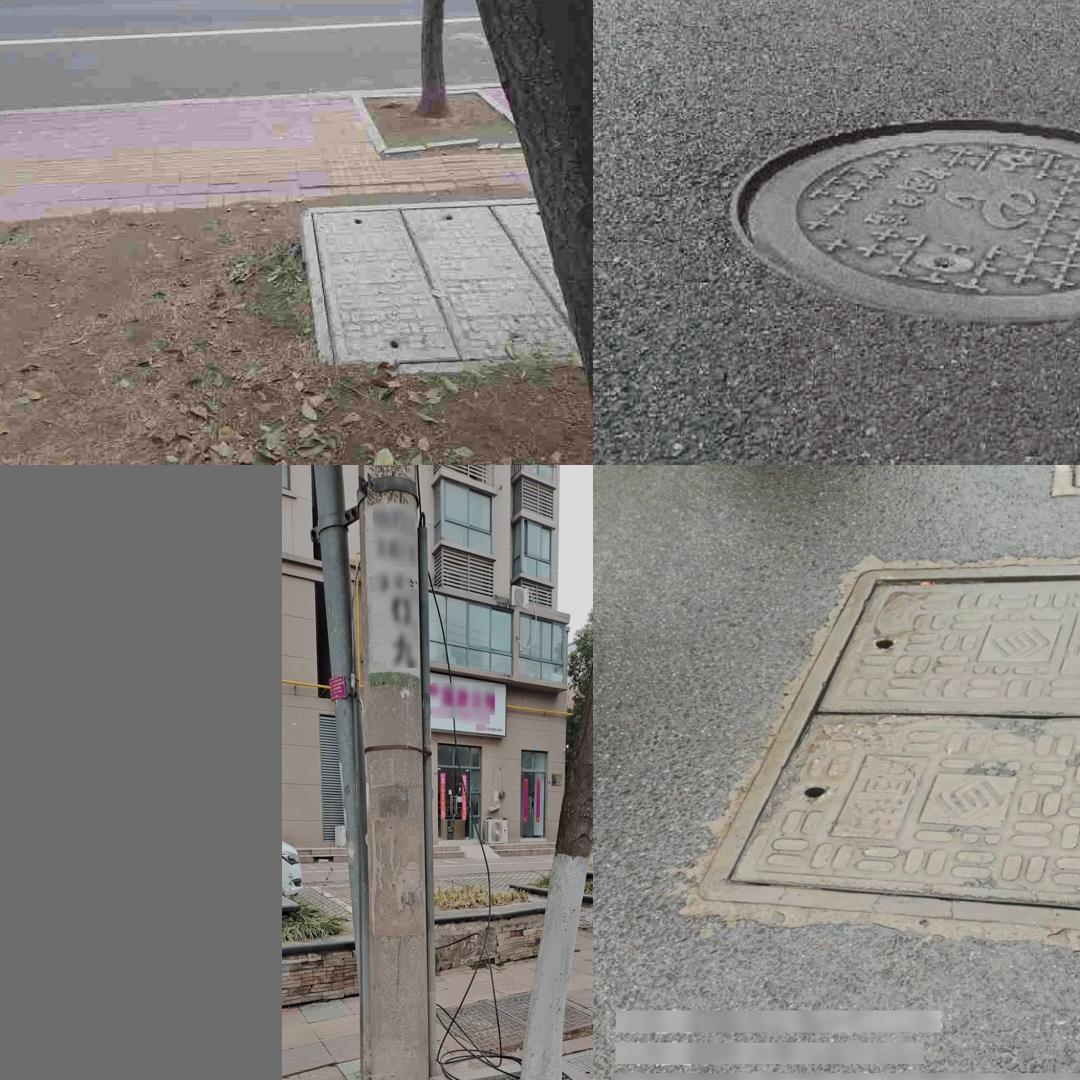good: (699, 561, 1080, 942), (722, 103, 1080, 348), (300, 197, 593, 374), (436, 989, 593, 1054)
